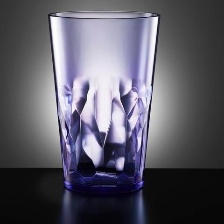glass: (43, 5, 165, 200)
